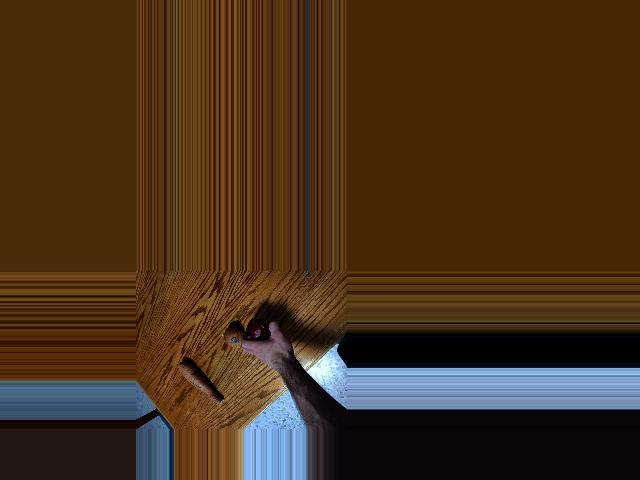onion: (224, 327, 248, 352)
